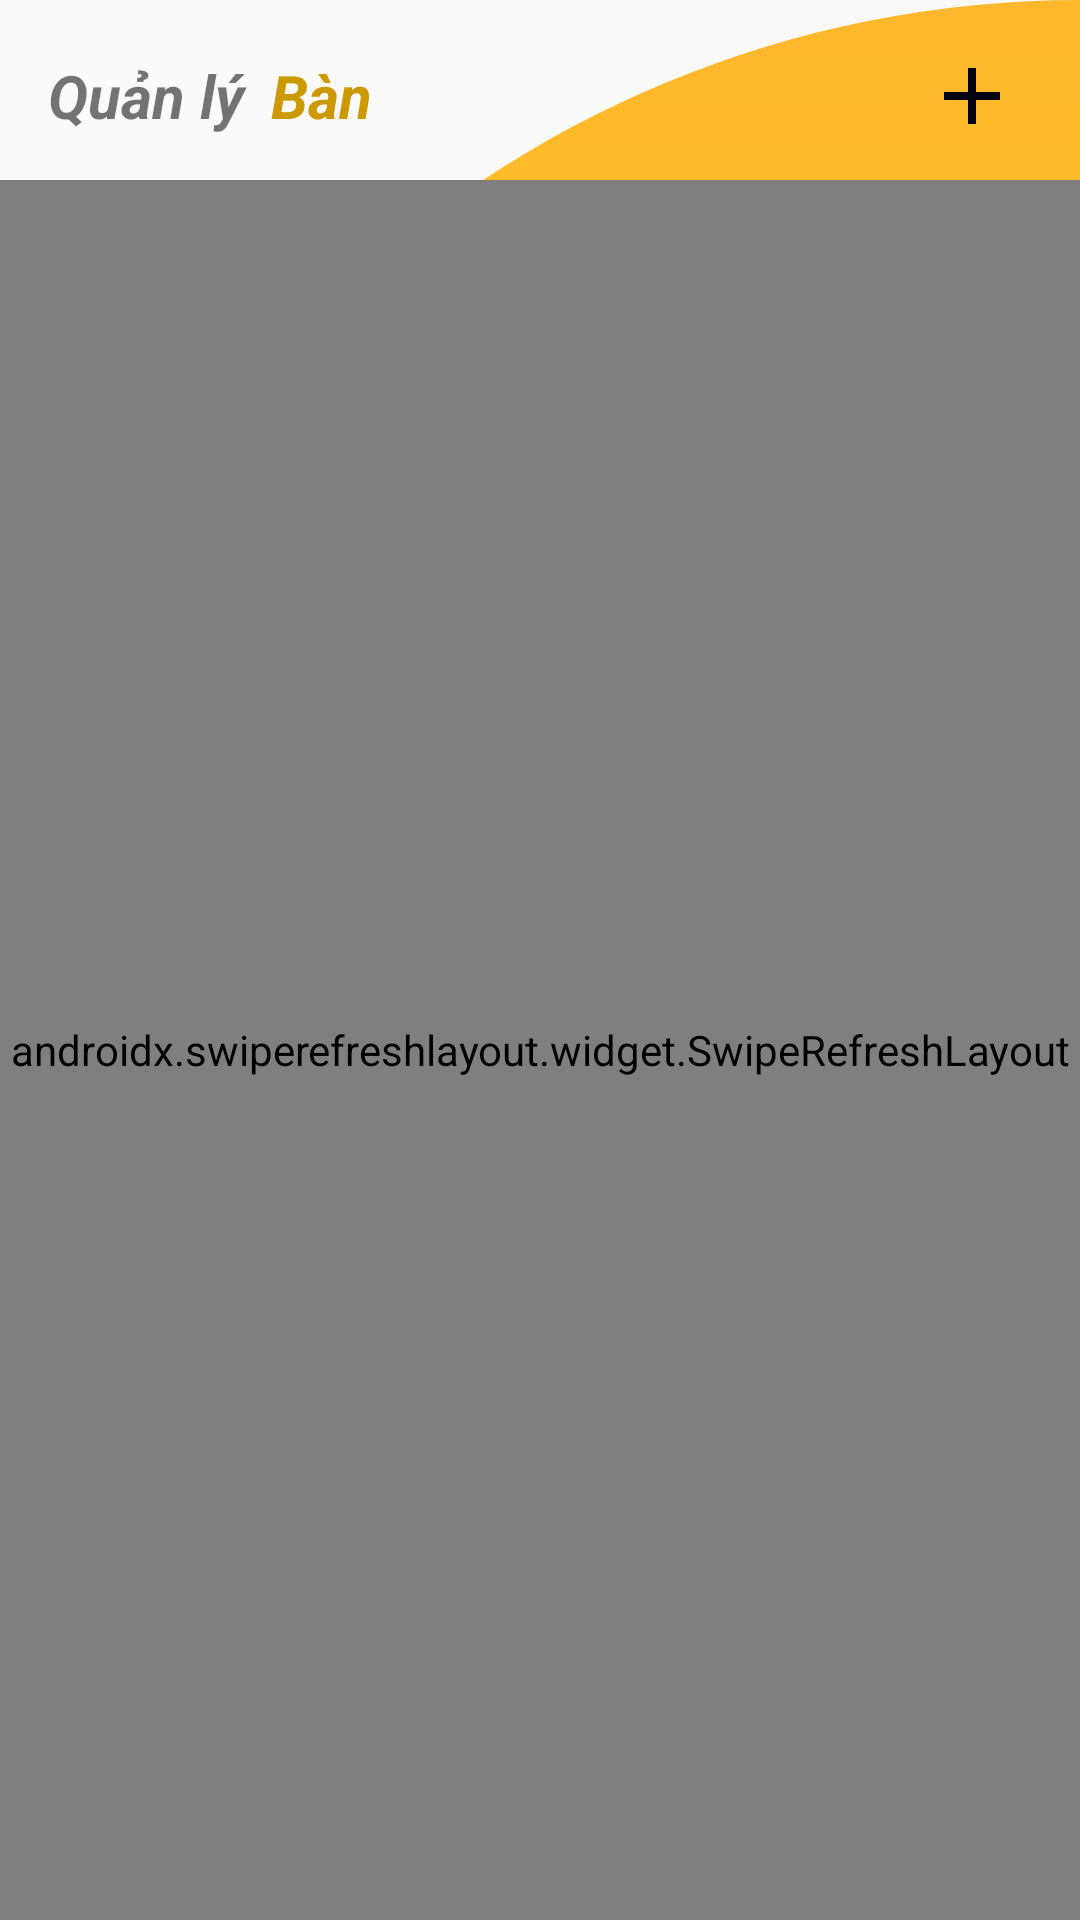

Named icons in this screenshot (1080×1920) and their bounding boxes, (x1, y1, x2, y2):
add: (944, 68, 1000, 124)
